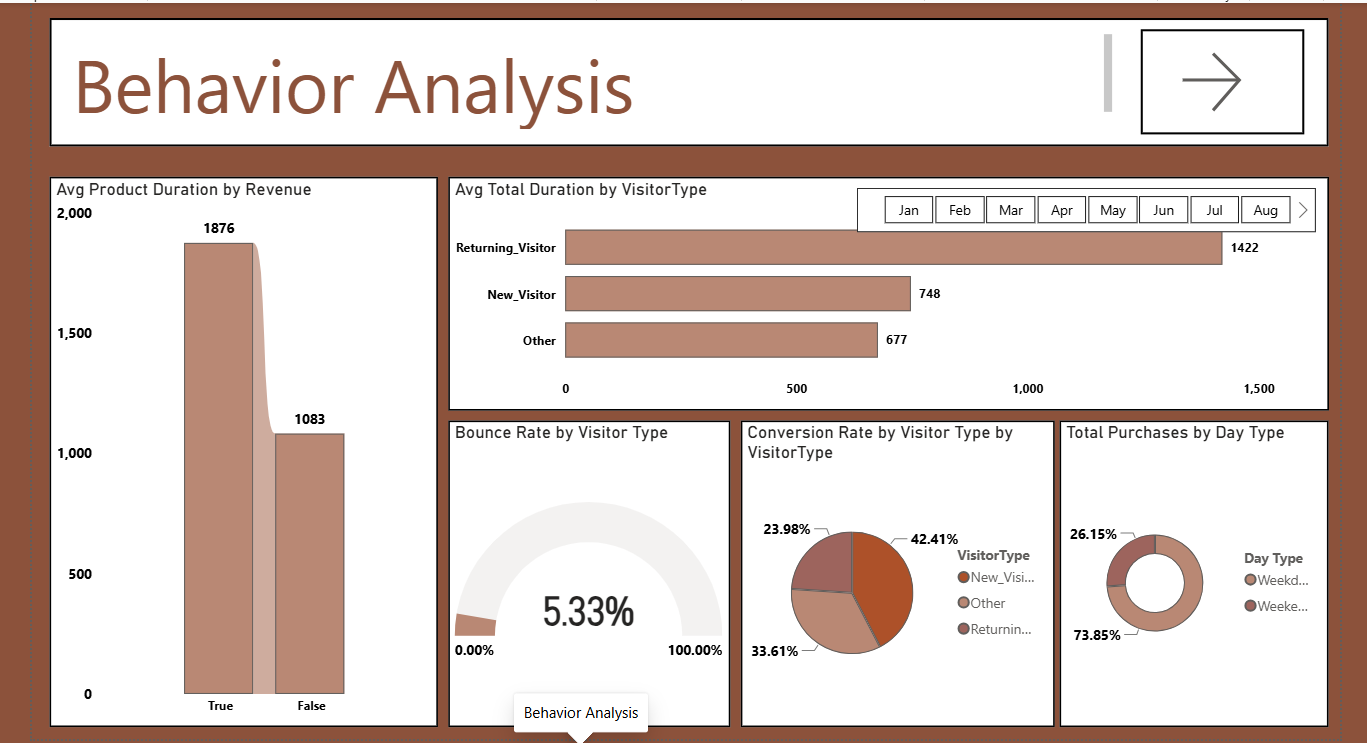

This screenshot's page, from the dashboard's own definition file:
{"tool":"powerbi","page":{"name":"Behavior Analysis","canvas":[1280,720],"ordinal":2},"visuals":[{"type":"shape","box":[17.1,14.3,1251.4,125.7],"z":0},{"type":"clusteredBarChart","fields":{"Y":["Sheet1.Avg Total Duration"],"Category":["Sheet1.VisitorType"]},"box":[407.1,170,861.4,228.6],"z":1000},{"type":"columnChart","fields":{"Category":["Sheet1.Revenue"],"Y":["Sheet1.Avg Product Duration"]},"box":[17.1,170,380,538.6],"z":2000},{"type":"donutChart","fields":{"Y":["Sheet1.Total Purchases"],"Category":["Sheet1.Day Type"]},"box":[1005.7,408.6,262.9,300],"z":3000},{"type":"pieChart","fields":{"Y":["Sheet1.Conversion Rate by Visitor Type"],"Category":["Sheet1.VisitorType"]},"box":[692.9,408.6,307.1,300],"z":4000},{"type":"gauge","fields":{"Y":["Sheet1.Bounce Rate by Visitor Type"]},"box":[407.1,408.6,275.7,300],"z":5000},{"type":"shape","box":[1084.3,25.7,160,102.9],"z":6000},{"type":"textbox","box":[34.3,25.7,1027.1,102.9],"z":7000},{"type":"actionButton","box":[1117.1,41.4,92.9,71.4],"z":8000},{"type":"slicer","fields":{"Values":["Calendar.MonthName"]},"box":[807.1,181.4,448.6,42.9],"z":9000}]}

Visuals, with their boxes in screenshot pixels (x1, y1, x2, y2):
shape: rect(49, 15, 1325, 143)
clusteredBarChart - Sheet1.Avg Total Duration x Sheet1.VisitorType: rect(447, 173, 1325, 406)
columnChart - Sheet1.Revenue x Sheet1.Avg Product Duration: rect(49, 173, 437, 722)
donutChart - Sheet1.Total Purchases x Sheet1.Day Type: rect(1057, 416, 1325, 722)
pieChart - Sheet1.Conversion Rate by Visitor Type x Sheet1.VisitorType: rect(738, 416, 1051, 722)
gauge - Sheet1.Bounce Rate by Visitor Type: rect(447, 416, 728, 722)
shape: rect(1137, 26, 1300, 131)
textbox: rect(67, 26, 1114, 131)
actionButton: rect(1170, 42, 1265, 115)
slicer - Calendar.MonthName: rect(855, 185, 1312, 229)
